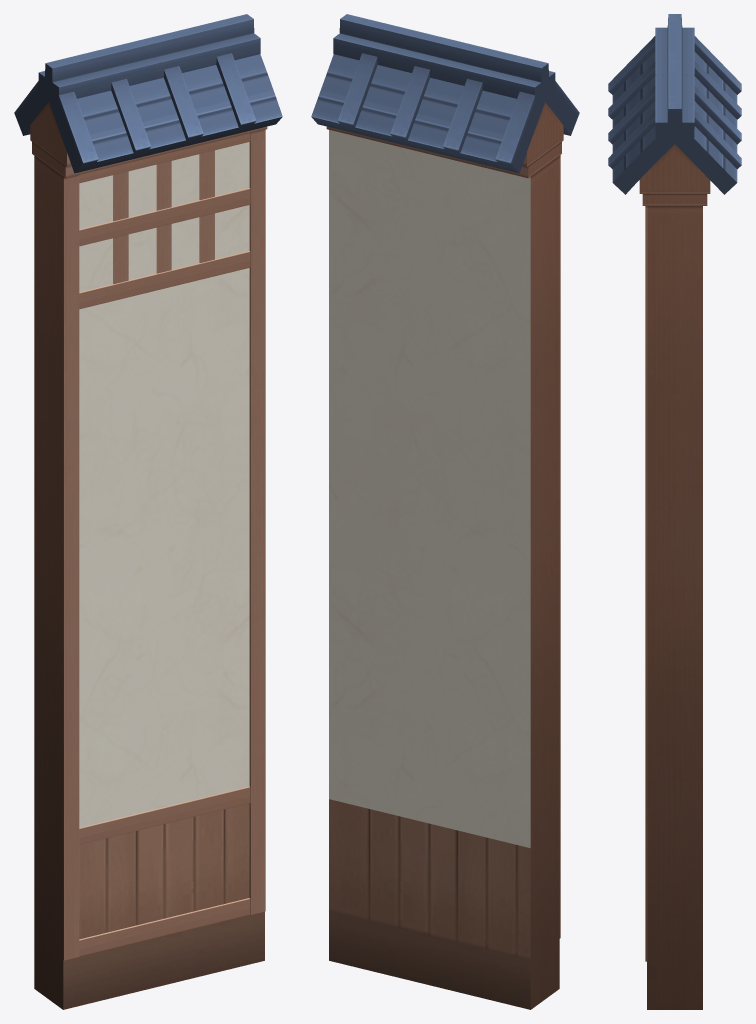
Rendered from my_hotsprings_01_wall_left.glb.
3 renders of one model, left to right at view 1: azimuth 30°, elevation 25°; view 2: azimuth 150°, elevation 25°; view 3: azimuth 270°, elevation 25°, orthographic. The views are drawn at different scales.
Parts seen in each view (by area): view 1: my_hotsprings_01_wall_left; view 2: my_hotsprings_01_wall_left; view 3: my_hotsprings_01_wall_left.
Boxes of the visible parts, x1,y1,x2,y2 form: my_hotsprings_01_wall_left: (14,14,282,1009); my_hotsprings_01_wall_left: (311,14,579,1009); my_hotsprings_01_wall_left: (608,14,741,1009).
Size of the model in its own units: 0.012 by 0.0531 by 0.00713.
1 material, 1 textured.
